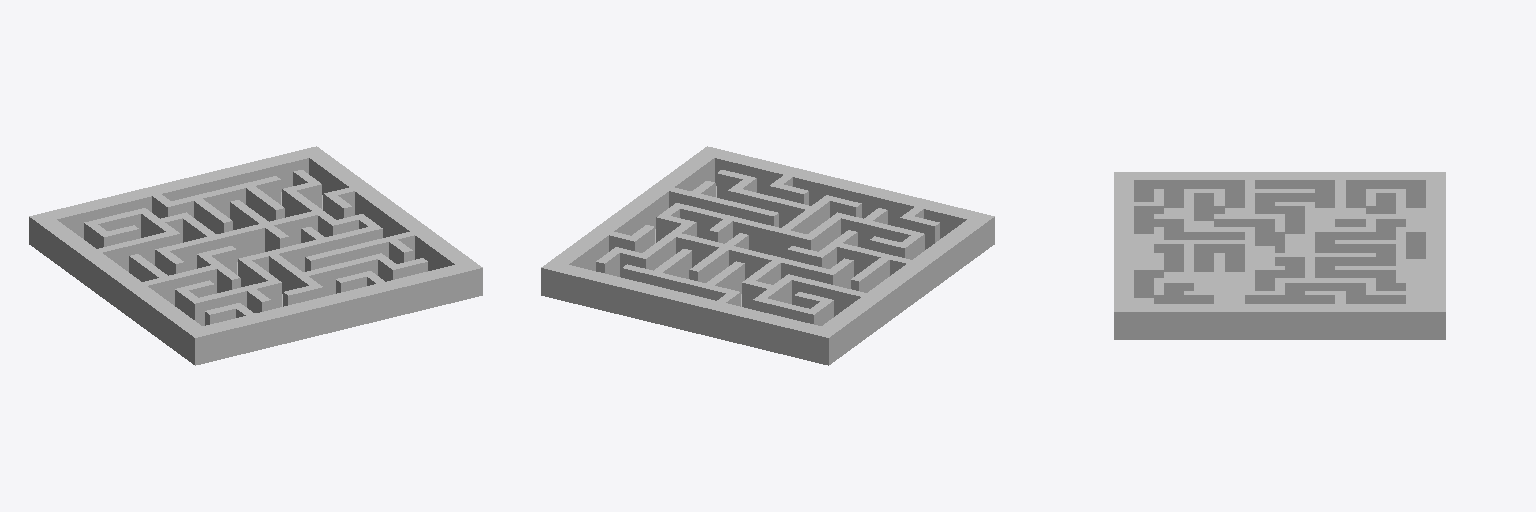
File: Maze1.obj
The picture shows the model from 3 angles: view 1: azimuth 30°, elevation 25°; view 2: azimuth 150°, elevation 25°; view 3: azimuth 270°, elevation 25°; orthographic projection.
Parts seen in each view (by area): view 1: Plane; view 2: Plane; view 3: Plane.
Boxes of the visible parts, box(x1,y1,x2,y2) form: Plane: box(29, 146, 482, 365); Plane: box(541, 146, 994, 365); Plane: box(1114, 172, 1445, 339).
Bounding box in the file's own units: 10 × 0.9202 × 10.